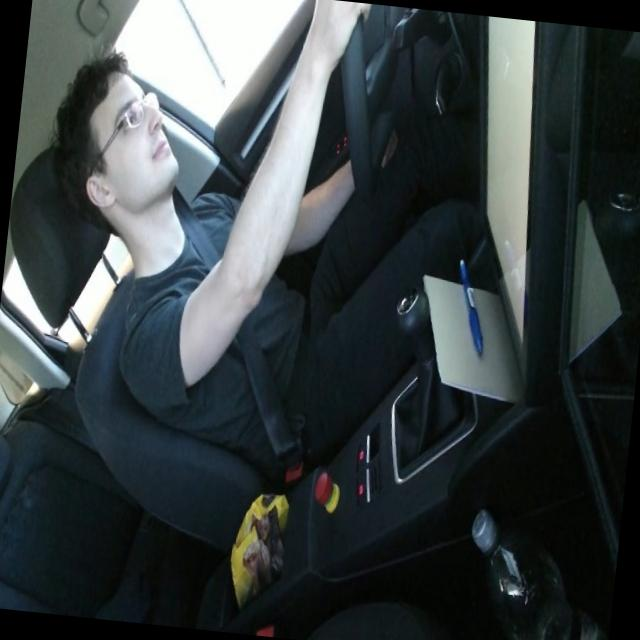pen: (448, 256, 492, 356)
